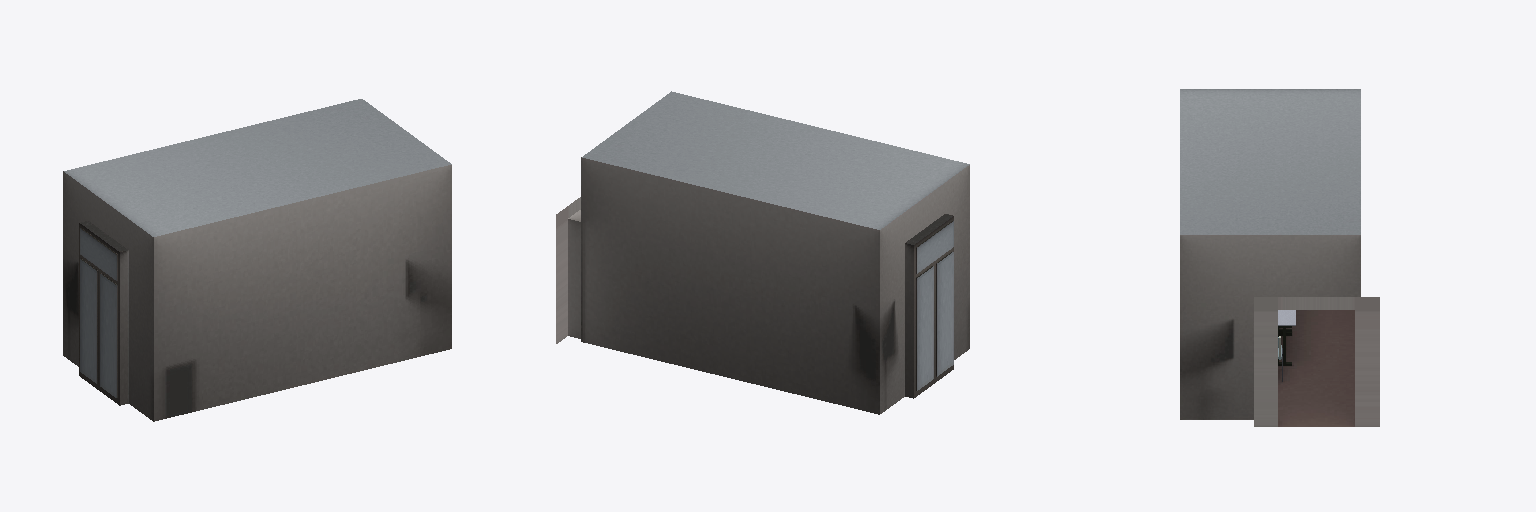
3 views of the same model, side by side, from view 1: azimuth 30°, elevation 25°; view 2: azimuth 150°, elevation 25°; view 3: azimuth 270°, elevation 25° (orthographic).
Parts seen in each view (by area): view 1: Konferenzraum, Fenster; view 2: Konferenzraum, Fenster; view 3: Konferenzraum.
Boxes of the visible parts, box(x1,y1,x2,y2) form: Konferenzraum: box(63, 99, 451, 421); Fenster: box(79, 223, 119, 405); Konferenzraum: box(556, 91, 969, 414); Fenster: box(914, 216, 953, 397); Konferenzraum: box(1180, 89, 1379, 426).
Size of the model in its own units: 6.2 by 3.37 by 3.29.
Materials: 1 (1 with a texture image).